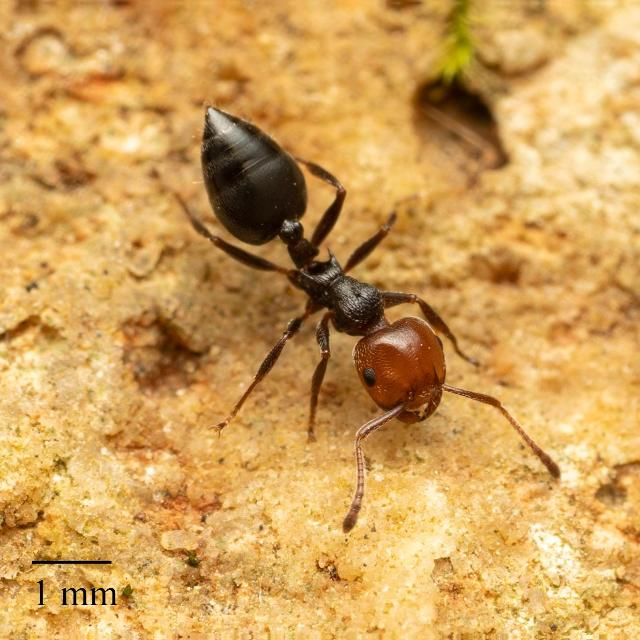Crematogaster: (162, 82, 458, 428)
